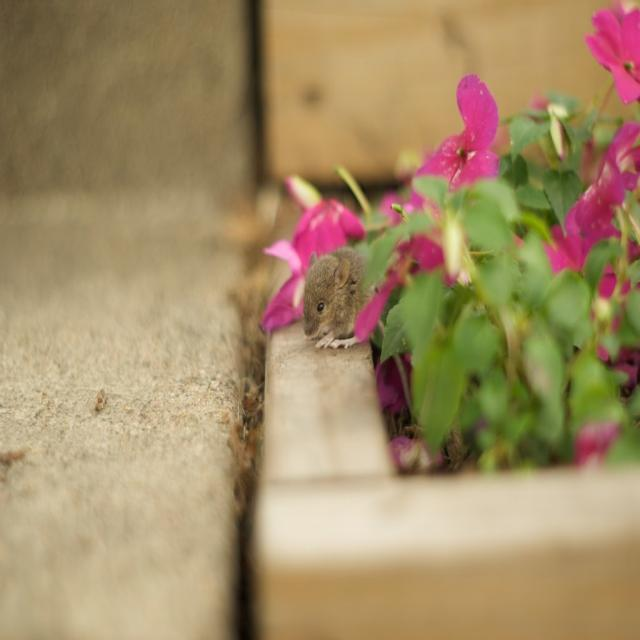rat: (300, 245, 374, 348)
